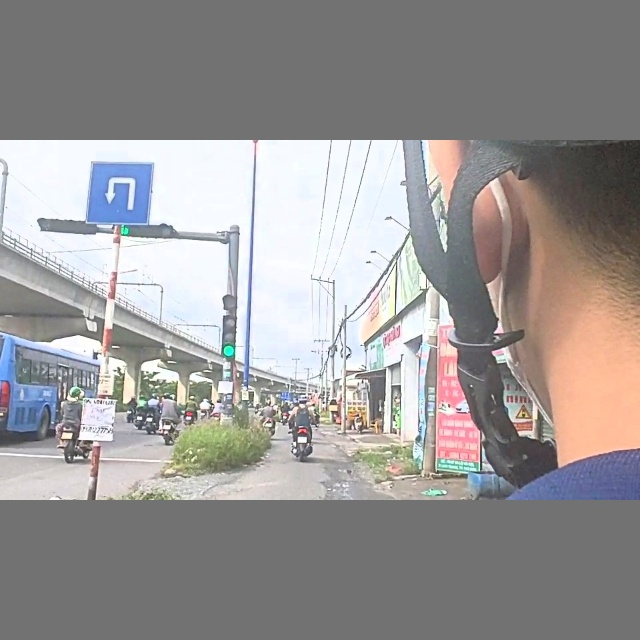I.409: (81, 153, 159, 234)
